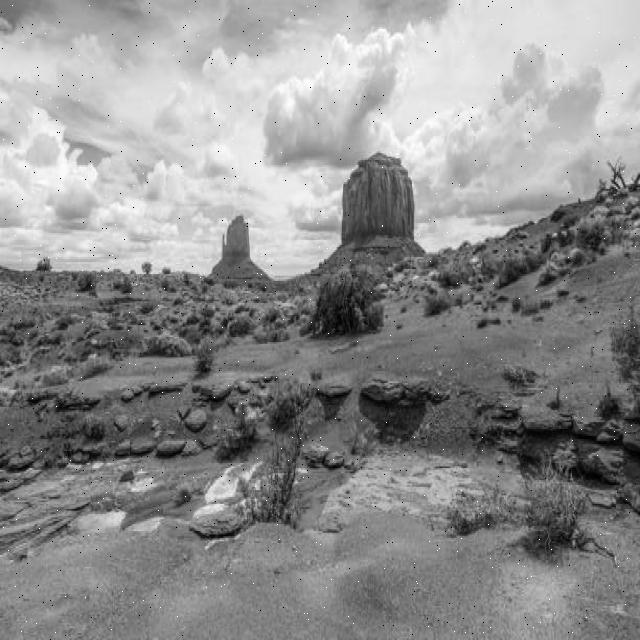Sedimentary: (330, 146, 424, 274)
